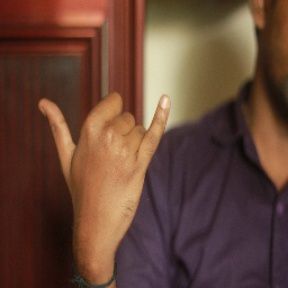J: (35, 66, 173, 221)
